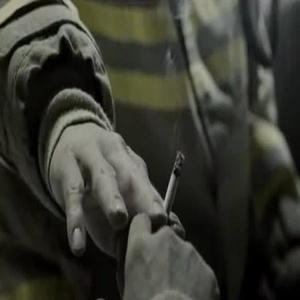cigarette: (163, 152, 182, 214)
